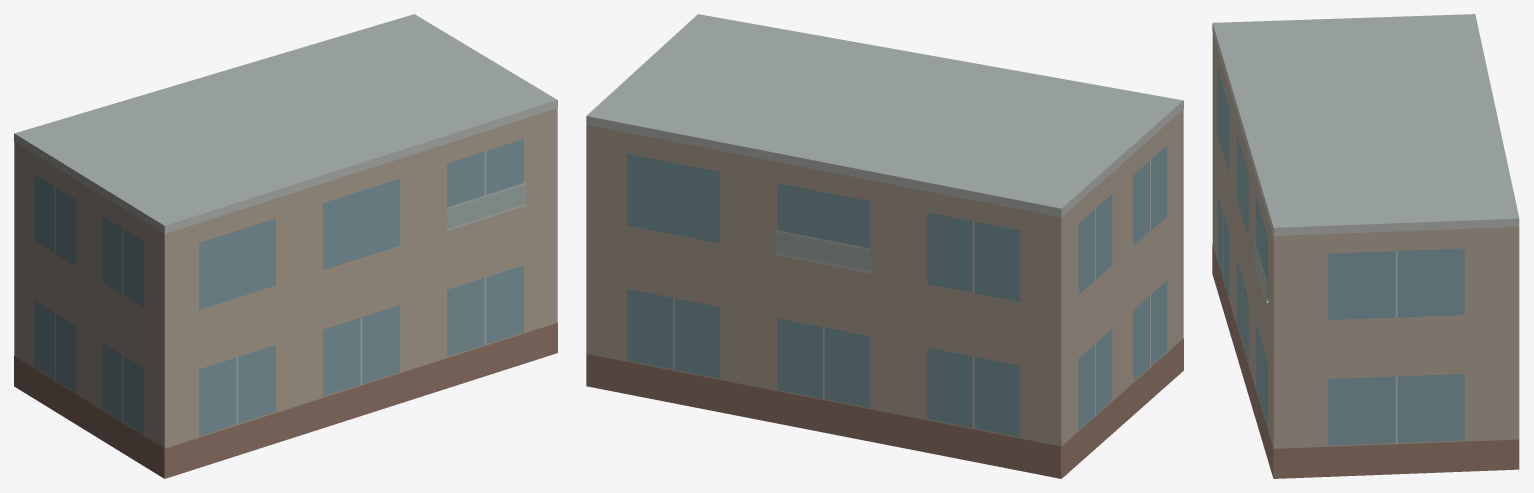
The model's file is survey-upis-32723396.glb.
The picture shows the model from 3 angles, left to right: view 1: azimuth 30°, elevation 25°; view 2: azimuth 150°, elevation 25°; view 3: azimuth 270°, elevation 25°; orthographic projection. The views are drawn at different scales.
Visible parts, largest first — view 1: survey-upis-32723396.tmp; view 2: survey-upis-32723396.tmp; view 3: survey-upis-32723396.tmp.
Part boxes in pixels (<box>): survey-upis-32723396.tmp: <box>14,14,557,478</box>; survey-upis-32723396.tmp: <box>586,14,1183,478</box>; survey-upis-32723396.tmp: <box>1212,14,1519,478</box>.
Bounding box in the file's own units: 13.72 × 7.5 × 8.33.
